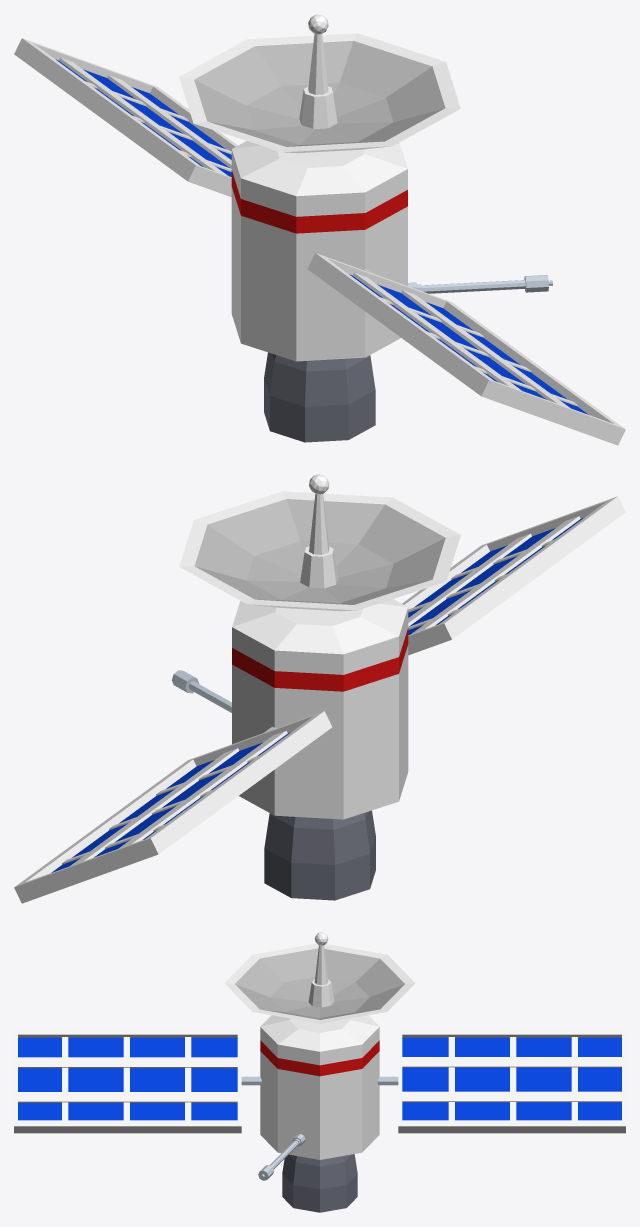
File: Satellite11.glb
3 renders of one model, top to bottom at view 1: azimuth 30°, elevation 25°; view 2: azimuth 150°, elevation 25°; view 3: azimuth 270°, elevation 25°, orthographic. The views are drawn at different scales.
Parts seen in each view (by area): view 1: Satellite11-main, Satellite11-head, Satellite11-PanelRight, Satellite11-PanelLeft, Satellite11-antenna; view 2: Satellite11-main, Satellite11-head, Satellite11-PanelLeft, Satellite11-PanelRight, Satellite11-antenna; view 3: Satellite11-PanelLeft, Satellite11-PanelRight, Satellite11-main, Satellite11-head, Satellite11-antenna.
Boxes of the visible parts, box(x1,y1,x2,y2) form: Satellite11-main: box(231, 141, 407, 442); Satellite11-head: box(179, 14, 460, 153); Satellite11-PanelRight: box(307, 253, 625, 445); Satellite11-PanelLeft: box(14, 38, 237, 197); Satellite11-antenna: box(408, 275, 552, 293); Satellite11-main: box(232, 599, 408, 900); Satellite11-head: box(179, 474, 460, 611); Satellite11-PanelLeft: box(14, 711, 331, 903); Satellite11-PanelRight: box(402, 496, 625, 655); Satellite11-antenna: box(171, 670, 231, 712); Satellite11-PanelLeft: box(378, 1028, 625, 1133); Satellite11-PanelRight: box(14, 1028, 261, 1133); Satellite11-main: box(260, 1015, 379, 1212); Satellite11-head: box(224, 932, 415, 1023); Satellite11-antenna: box(258, 1134, 305, 1180).
Size of the model in its own units: 4 by 4.87 by 10.25.
